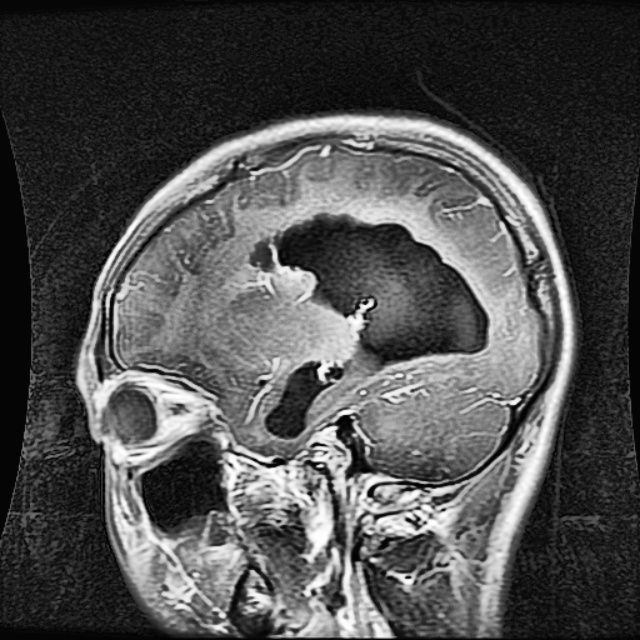Meningioma: (253, 213, 488, 439)
